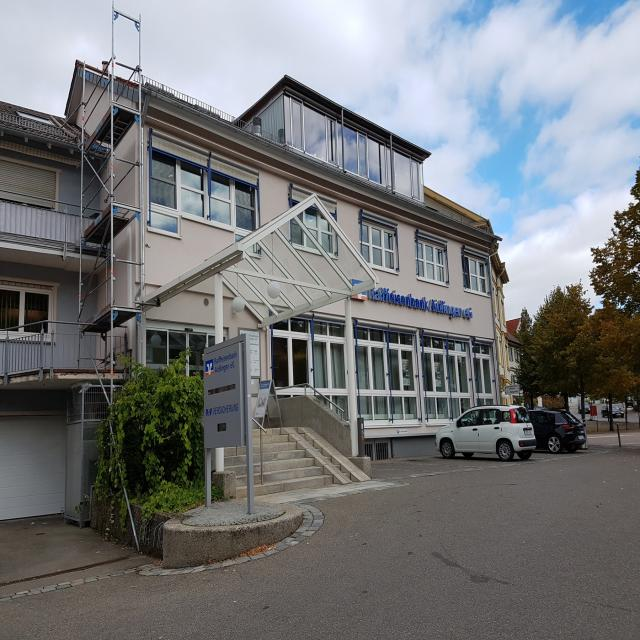AVOID: (252, 428, 334, 496)
CLIMB: (281, 425, 371, 485)
